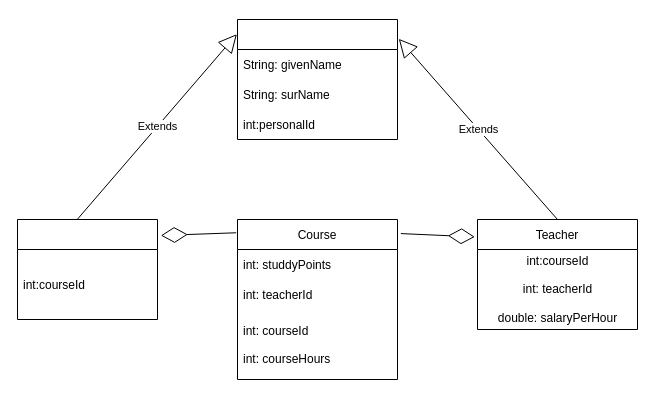
Image size: 655x398. Some labels were removed from this diagram. Here are the shapes that lost their labels. From the top down, the box of each, then its label:
(236, 18, 398, 140): Human
(16, 218, 158, 320): Student
